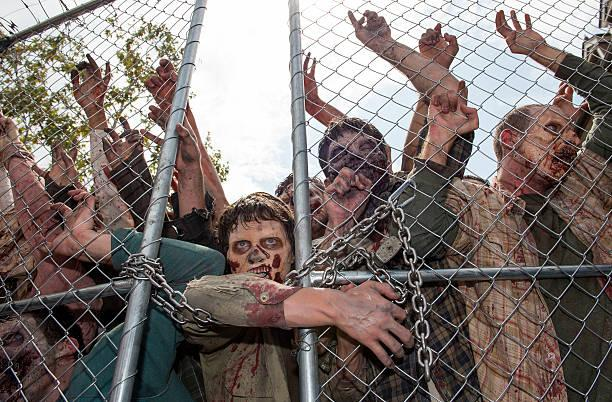Zombie: (223, 207, 293, 292), (509, 99, 574, 183), (317, 123, 386, 191), (0, 315, 60, 387), (274, 180, 331, 216)
